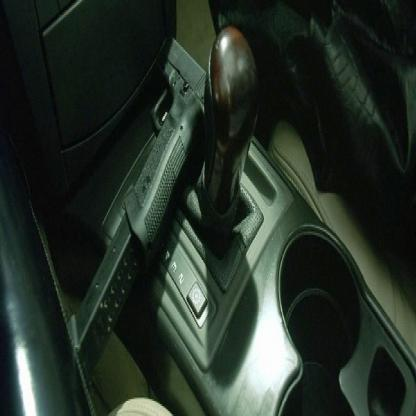Guns: (68, 22, 209, 382)
